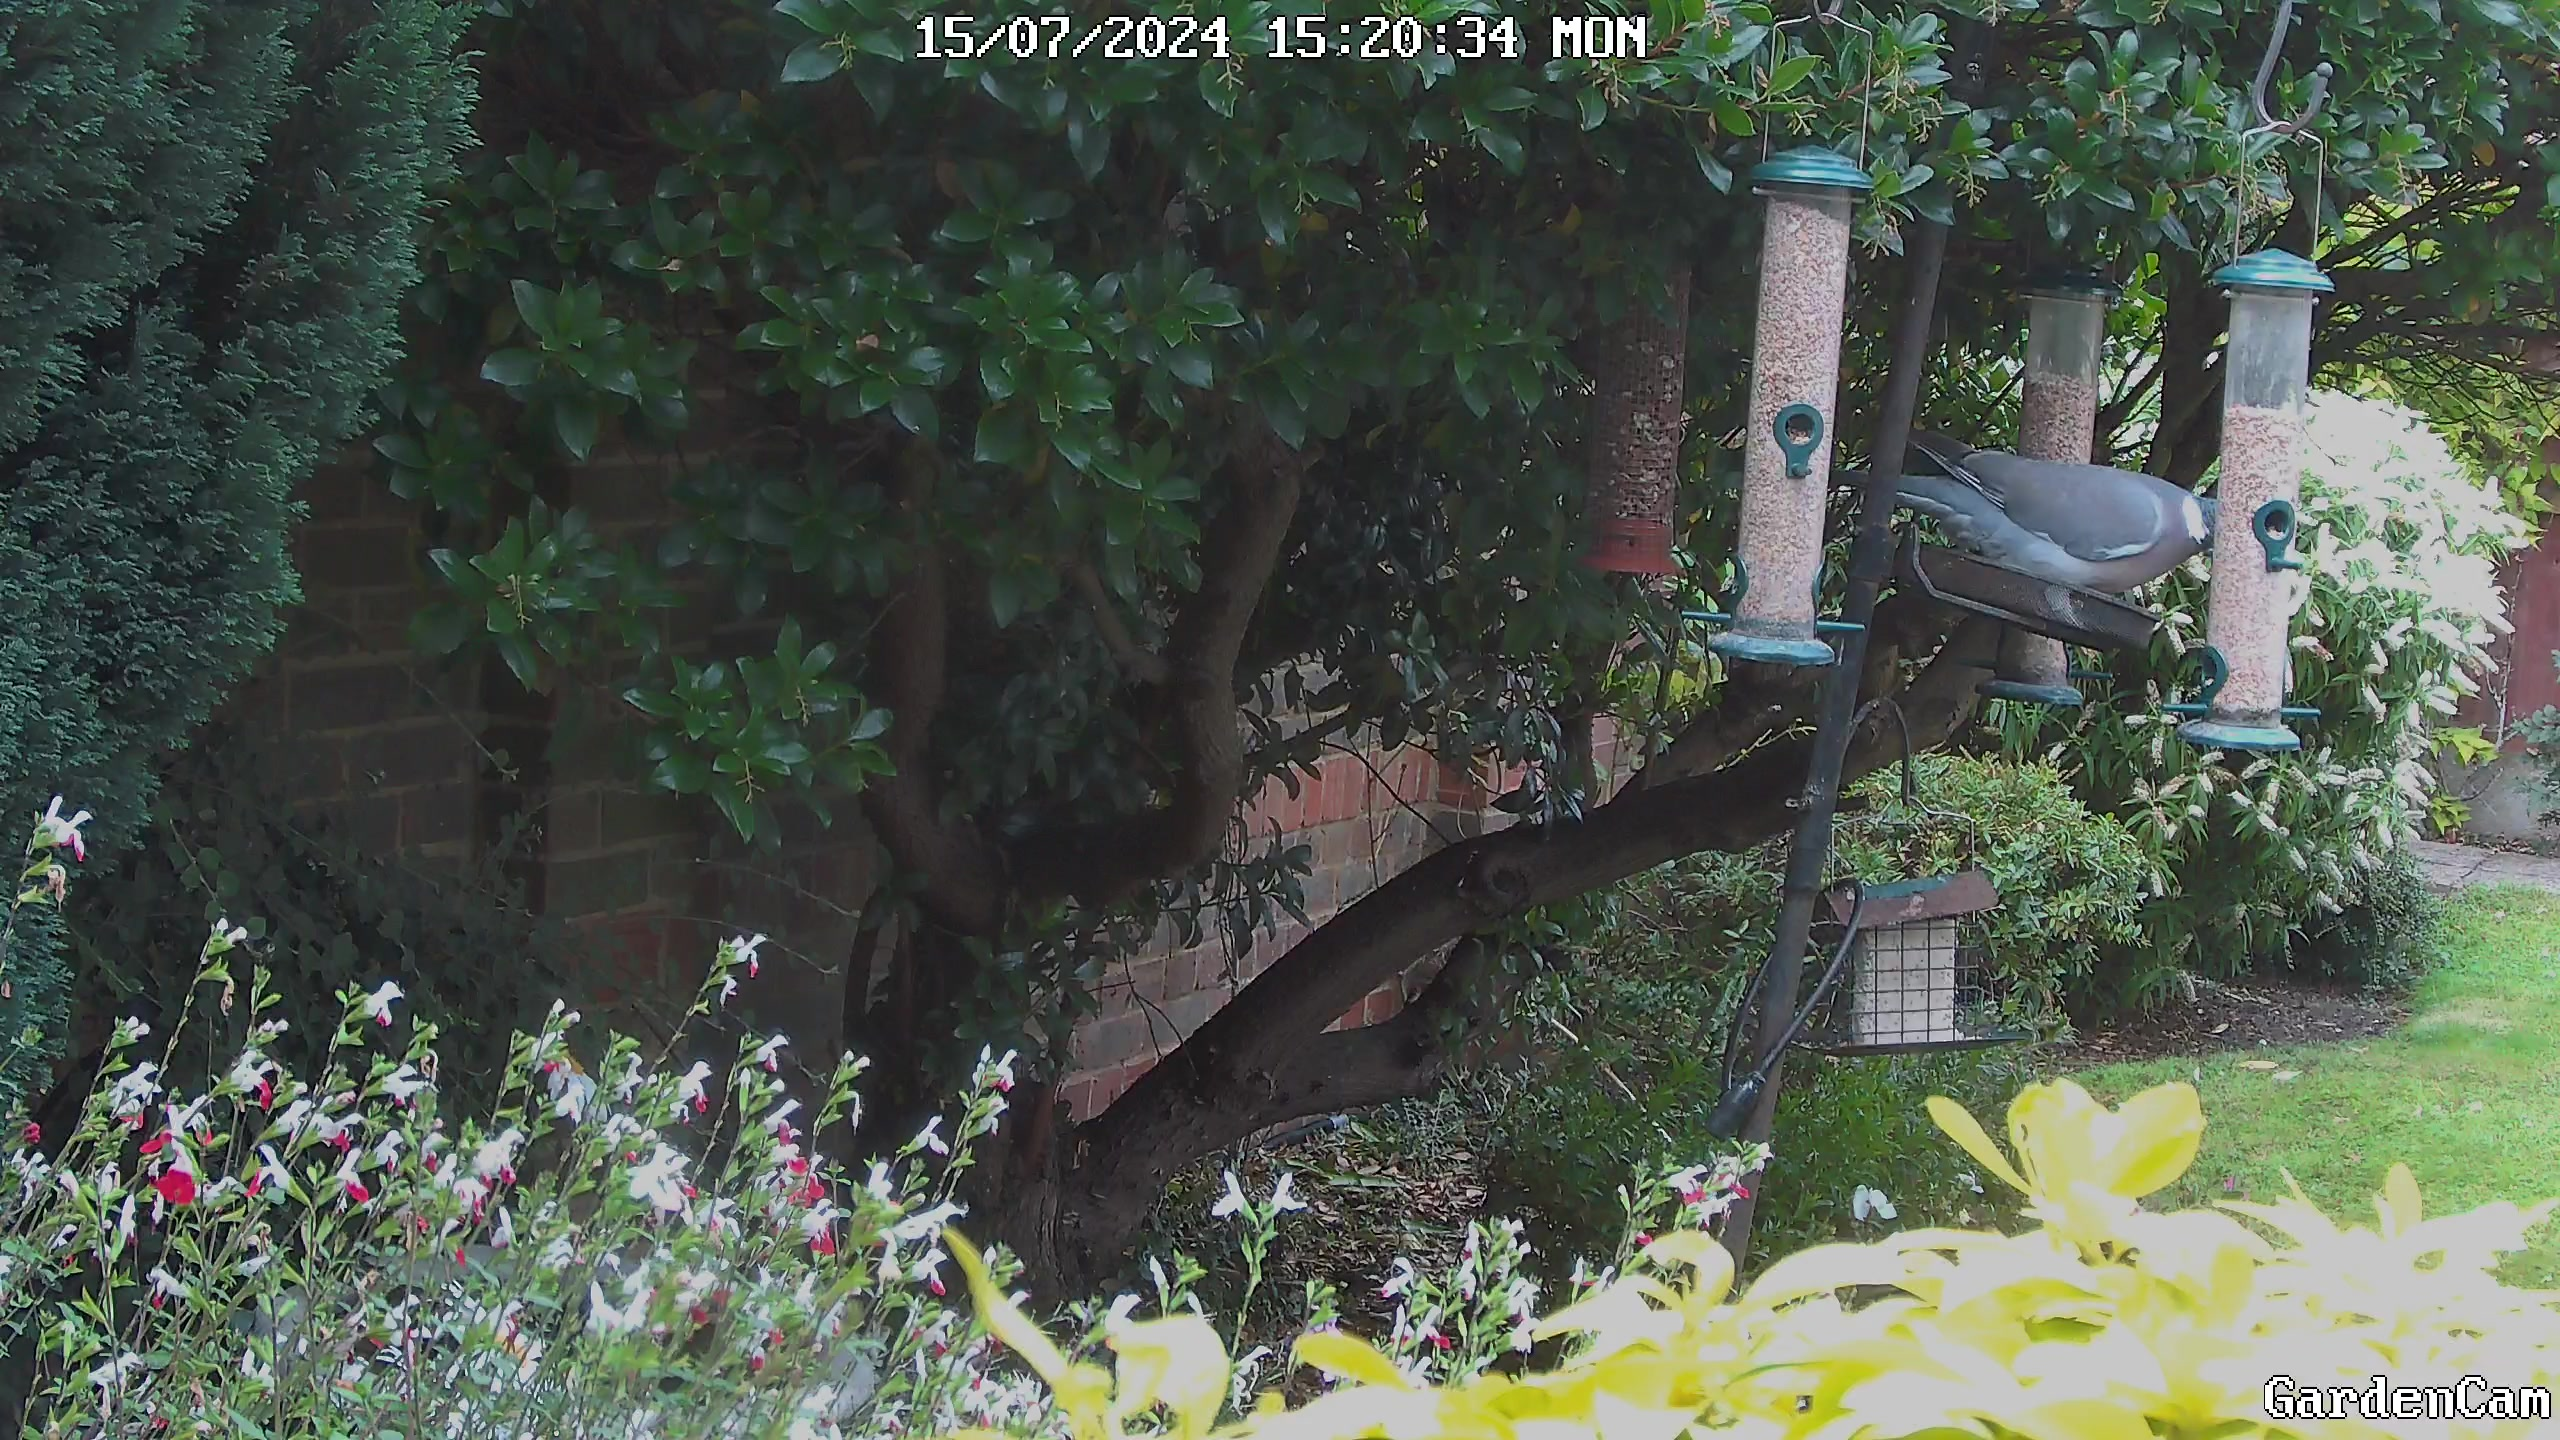Wood_Pigeon: (1865, 408, 2256, 631)
